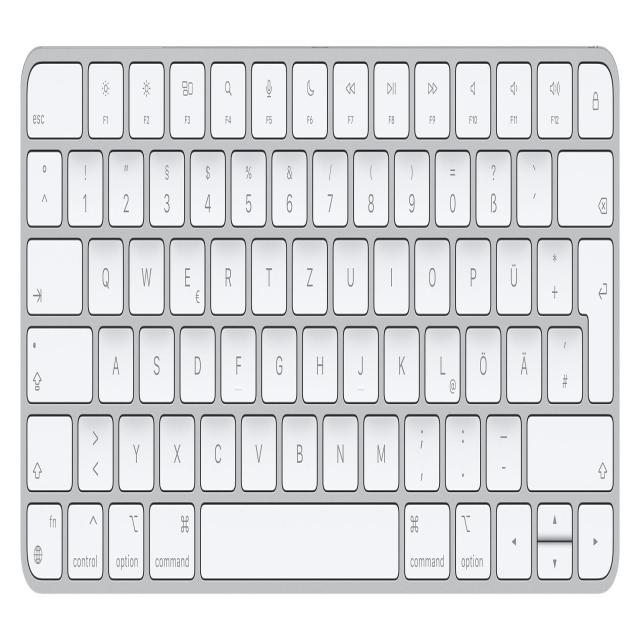0: (433, 145, 470, 226)
1: (65, 144, 103, 224)
2: (106, 144, 144, 225)
3: (147, 144, 185, 225)
4: (188, 144, 226, 225)
5: (229, 144, 267, 225)
6: (270, 144, 308, 225)
7: (311, 145, 348, 226)
8: (351, 144, 389, 225)
9: (392, 145, 430, 226)
a: (96, 320, 133, 400)
accent: (515, 144, 552, 223)
ae: (505, 320, 542, 401)
alt-left: (106, 498, 145, 579)
altgr-right: (453, 498, 491, 579)
b: (280, 408, 318, 489)
c: (198, 409, 236, 490)
caret: (25, 144, 62, 224)
comma: (402, 408, 440, 489)
d: (178, 320, 215, 402)
del: (555, 144, 613, 224)
e: (167, 233, 205, 314)
enter: (576, 232, 614, 401)
f: (218, 321, 256, 401)
g: (260, 320, 297, 402)
h: (300, 320, 337, 402)
hash: (545, 320, 582, 401)
i: (372, 232, 409, 313)
j: (342, 320, 378, 401)
k: (382, 319, 419, 402)
keyboard: (20, 42, 623, 597)
l: (423, 321, 460, 402)
less: (75, 409, 113, 488)
m: (361, 408, 399, 489)
minus: (483, 409, 521, 488)
n: (320, 409, 358, 489)
o: (412, 233, 450, 314)
oe: (463, 321, 501, 403)
p: (453, 232, 491, 314)
plus: (535, 231, 572, 313)
point: (443, 409, 481, 488)
q: (85, 232, 124, 314)
r: (209, 232, 246, 313)
s: (136, 321, 174, 402)
shift-left: (24, 408, 72, 489)
shift-lock: (25, 320, 93, 401)
shift-right: (523, 407, 613, 489)
space: (197, 497, 400, 579)
ss: (474, 144, 511, 225)
strg-left: (66, 498, 104, 580)
t: (250, 232, 287, 313)
tab: (25, 231, 82, 312)
u: (331, 233, 368, 314)
ue: (494, 232, 532, 314)
v: (239, 408, 277, 489)
w: (126, 231, 164, 313)
x: (158, 409, 196, 489)
y: (117, 409, 154, 489)
z: (290, 233, 328, 314)
